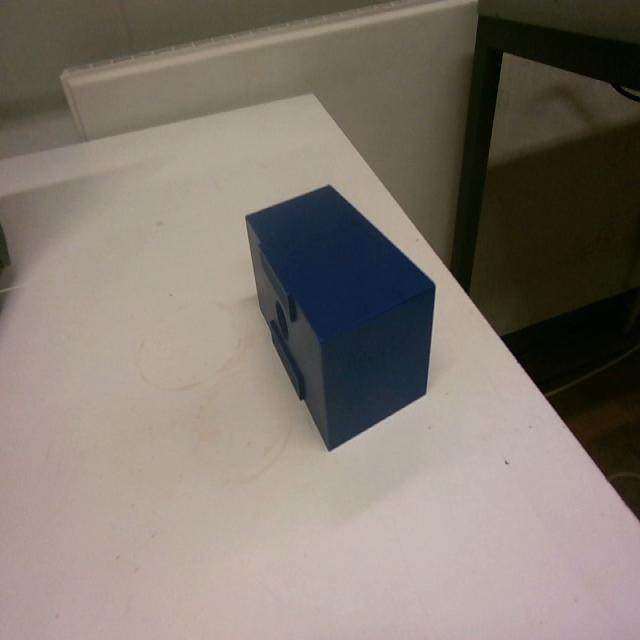Blue Cuboid: (242, 180, 437, 452)
